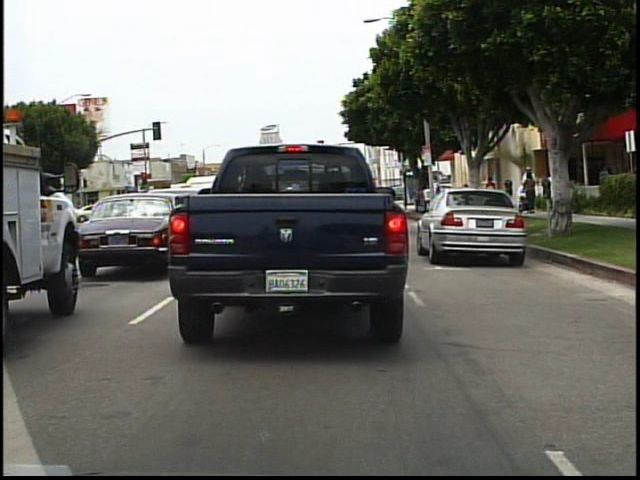person: (483, 172, 501, 211)
